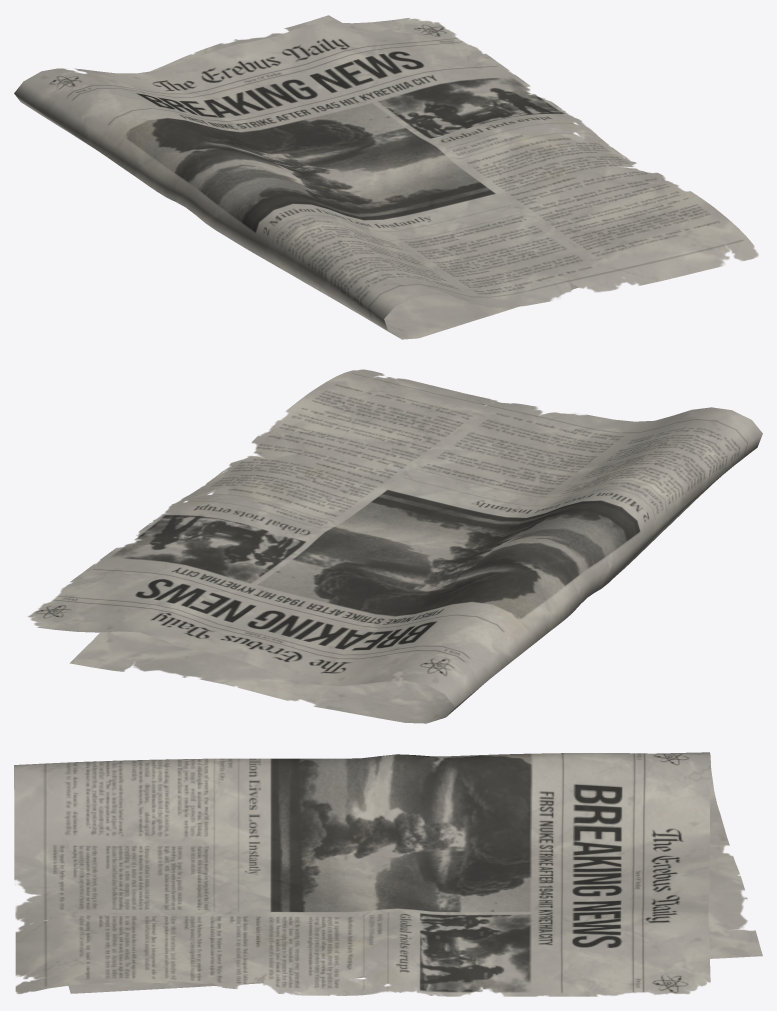
Rendered from old_newspaper.glb.
The picture shows the model from 3 angles, top to bottom: view 1: azimuth 30°, elevation 25°; view 2: azimuth 150°, elevation 25°; view 3: azimuth 270°, elevation 25°; orthographic projection. The views are drawn at different scales.
Visible parts, largest first — view 1: unnamed; view 2: unnamed; view 3: unnamed.
Boxes of the visible parts, x1,y1,x2,y2 form: unnamed: (14, 15, 758, 339); unnamed: (28, 369, 762, 723); unnamed: (14, 752, 762, 996).
Size of the model in its own units: 13.07 by 1.52 by 19.27.
Materials: 1 (1 with a texture image).
